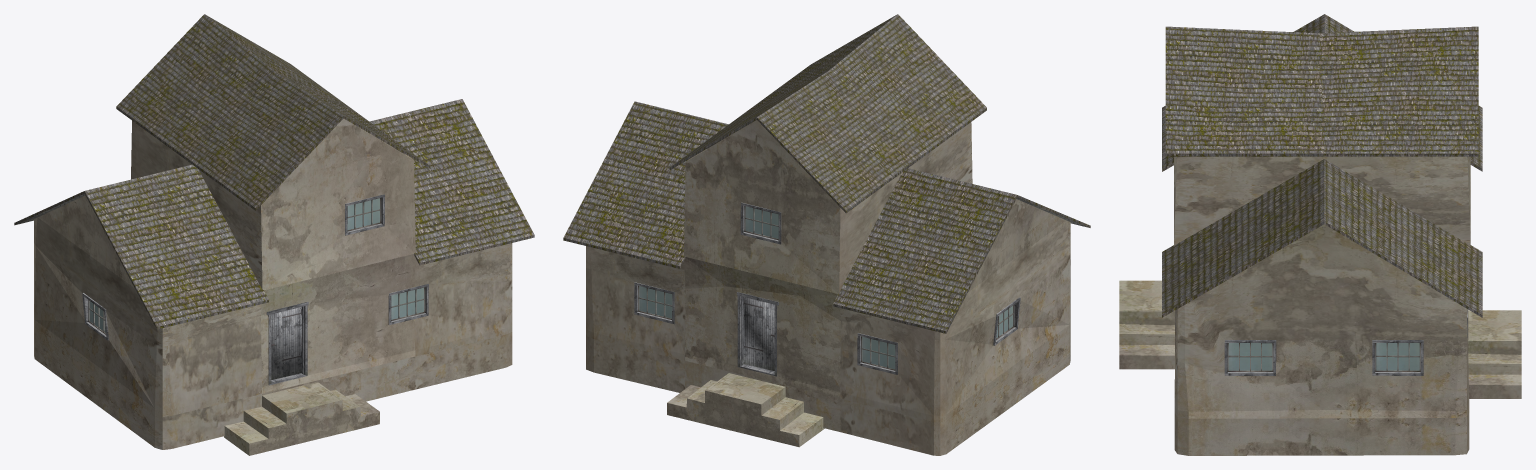
File: plasterHouse3.fbx
3 renders of one model, left to right at view 1: azimuth 30°, elevation 25°; view 2: azimuth 150°, elevation 25°; view 3: azimuth 270°, elevation 25°, orthographic. The views are drawn at different scales.
Visible parts, largest first — view 1: base, roof, second floor, steps, door back; view 2: base, roof, second floor, steps, door front; view 3: roof, base, second floor, steps.
Part boxes in pixels (left/top/right/bottom): base: left=34, top=195, right=512, bottom=449; roof: left=14, top=14, right=534, bottom=329; second floor: left=131, top=118, right=415, bottom=290; steps: left=224, top=382, right=379, bottom=455; door back: left=271, top=307, right=301, bottom=379; base: left=586, top=199, right=1070, bottom=455; roof: left=563, top=14, right=1090, bottom=333; second floor: left=684, top=120, right=972, bottom=293; steps: left=667, top=373, right=824, bottom=447; door front: left=743, top=297, right=774, bottom=370; roof: left=1162, top=14, right=1482, bottom=317; base: left=1174, top=224, right=1469, bottom=455; second floor: left=1174, top=156, right=1470, bottom=245; steps: left=1119, top=280, right=1521, bottom=398.
Bounding box in the file's own units: 17.2 × 12.92 × 14.1.
